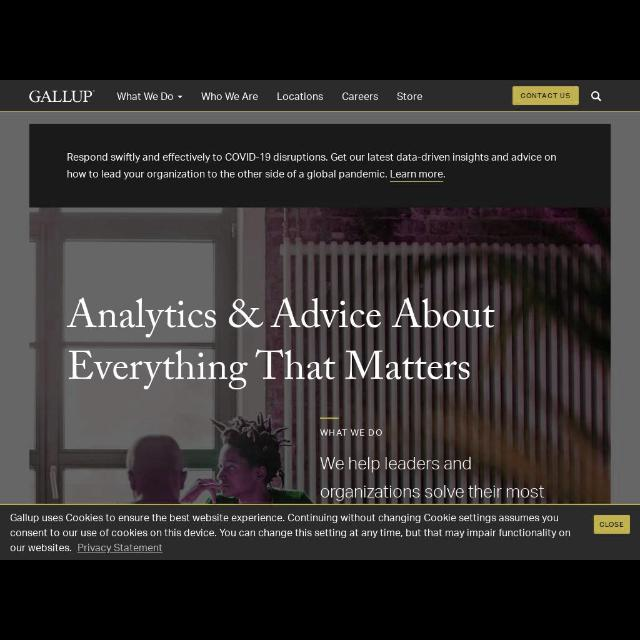backgroundimage: (1, 114, 638, 502)
icon: (589, 90, 603, 102), (176, 94, 184, 100)
image: (27, 85, 98, 108)
link: (76, 541, 166, 555), (390, 168, 444, 182)
spinner: (112, 86, 186, 104)
text: (62, 290, 500, 388), (8, 511, 578, 557), (64, 148, 566, 185), (320, 485, 548, 501), (320, 456, 472, 474), (201, 90, 259, 104), (320, 427, 384, 438), (116, 90, 174, 102), (519, 90, 573, 100), (276, 91, 324, 102), (341, 91, 379, 103), (395, 91, 423, 103), (598, 520, 626, 528)
textbutton: (512, 86, 580, 105), (594, 514, 630, 534)
